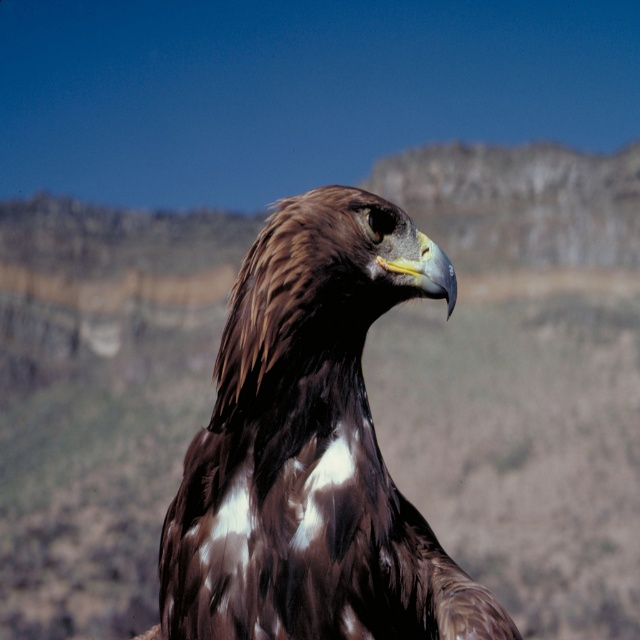Eagle: (158, 183, 526, 639)
